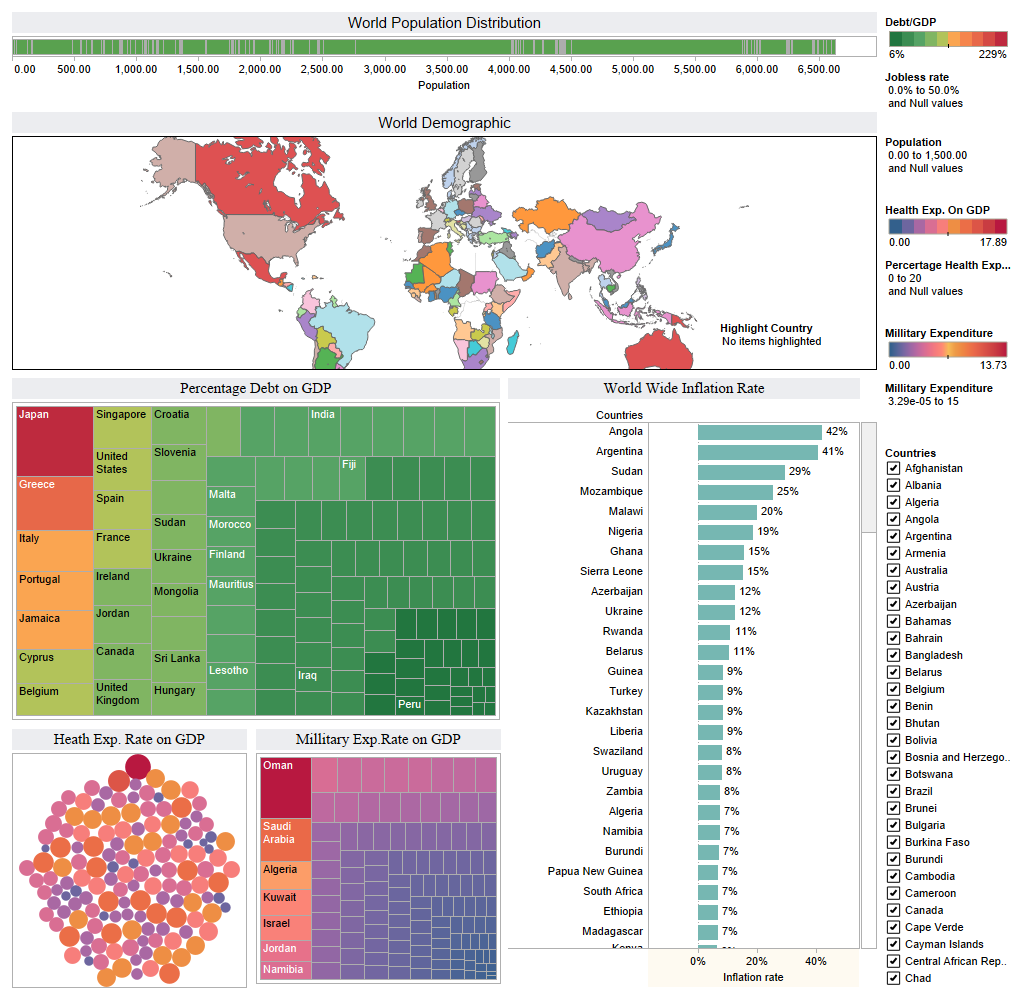

Layout of this report page (visuals, bound fields, positions):
{"tool":"tableau","page":{"name":"Dashboard","canvas":[1024,1000],"ordinal":0},"visuals":[{"type":"worksheet","title":"Sheet 8","mark":"Automatic","cols":["Population"],"box":[8,8,873,100]},{"type":"legend","title":"Sheet 4","param":"[federated.0zfigmm17u5e0c11hldlv1l4j70c].[sum:Debt/GDP:qk]","box":[881,8,135,57]},{"type":"filter","title":"Sheet 10","param":"[federated.0zfigmm17u5e0c11hldlv1l4j70c].[sum:Jobless rate:qk]","box":[881,65,135,65]},{"type":"worksheet","title":"Sheet 10","mark":"Multipolygon","box":[8,108,873,266]},{"type":"filter","title":"Sheet 10","param":"[federated.0zfigmm17u5e0c11hldlv1l4j70c].[sum:Population:qk]","box":[881,130,135,65]},{"type":"legend","title":"Sheet 11","param":"[federated.0zfigmm17u5e0c11hldlv1l4j70c].[sum:%age of Health Exp. On GDP:qk]","box":[881,195,135,57]},{"type":"filter","title":"Sheet 11","param":"[federated.0zfigmm17u5e0c11hldlv1l4j70c].[sum:%age of Health Exp. On GDP:qk]","box":[881,252,135,65]},{"type":"highlighter","title":"Sheet 10","param":"[federated.0zfigmm17u5e0c11hldlv1l4j70c].[none:Country:nk]","box":[716,317,135,48]},{"type":"legend","title":"Sheet 13","param":"[federated.0zfigmm17u5e0c11hldlv1l4j70c].[sum:Millitary Expenditure:qk]","box":[881,317,135,57]},{"type":"worksheet","title":"Sheet 4","mark":"Automatic","box":[8,374,496.5,351]},{"type":"worksheet","title":"Sheet 3","mark":"Automatic","rows":["Country"],"cols":["Inflation rate"],"box":[504.5,374,376.5,618]},{"type":"filter","title":"Sheet 13","param":"[federated.0zfigmm17u5e0c11hldlv1l4j70c].[sum:Millitary Expenditure:qk]","box":[881,374,135,65]},{"type":"filter","title":"Sheet 10","param":"[federated.0zfigmm17u5e0c11hldlv1l4j70c].[none:Country:nk]","box":[881,439,135,553]},{"type":"worksheet","title":"Sheet 11","mark":"Circle","box":[8,725,243.9,267]},{"type":"worksheet","title":"Sheet 13","mark":"Automatic","box":[251.9,725,252.6,267]}]}

Visuals, with their boxes in screenshot pixels (x1, y1, x2, y2), scaled from the page's 1024x1000 canvas onto the 1024x1000 screenshot:
"Sheet 8" worksheet: left=8, top=8, right=881, bottom=108
"Sheet 4" legend: left=881, top=8, right=1016, bottom=65
"Sheet 10" filter: left=881, top=65, right=1016, bottom=130
"Sheet 10" worksheet (Multipolygon marks): left=8, top=108, right=881, bottom=374
"Sheet 10" filter: left=881, top=130, right=1016, bottom=195
"Sheet 11" legend: left=881, top=195, right=1016, bottom=252
"Sheet 11" filter: left=881, top=252, right=1016, bottom=317
"Sheet 10" highlighter: left=716, top=317, right=851, bottom=365
"Sheet 13" legend: left=881, top=317, right=1016, bottom=374
"Sheet 4" worksheet: left=8, top=374, right=504, bottom=725
"Sheet 3" worksheet: left=504, top=374, right=881, bottom=992
"Sheet 13" filter: left=881, top=374, right=1016, bottom=439
"Sheet 10" filter: left=881, top=439, right=1016, bottom=992
"Sheet 11" worksheet (Circle marks): left=8, top=725, right=252, bottom=992
"Sheet 13" worksheet: left=252, top=725, right=504, bottom=992
